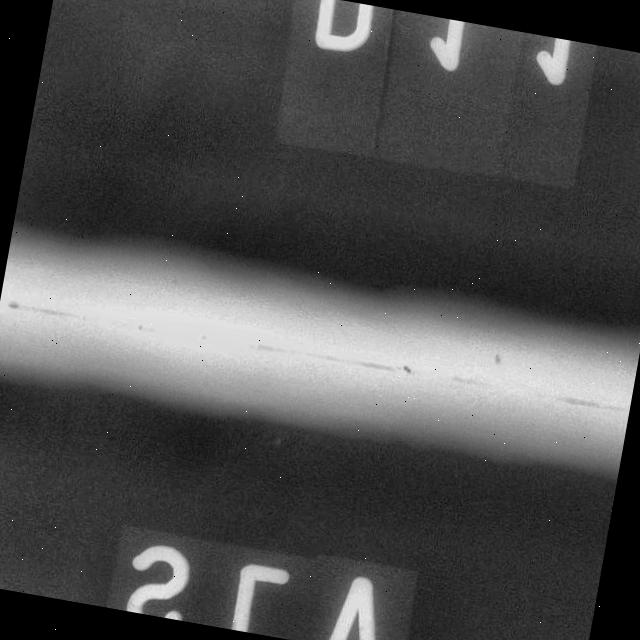LoP-LoF: (0, 281, 632, 435)
